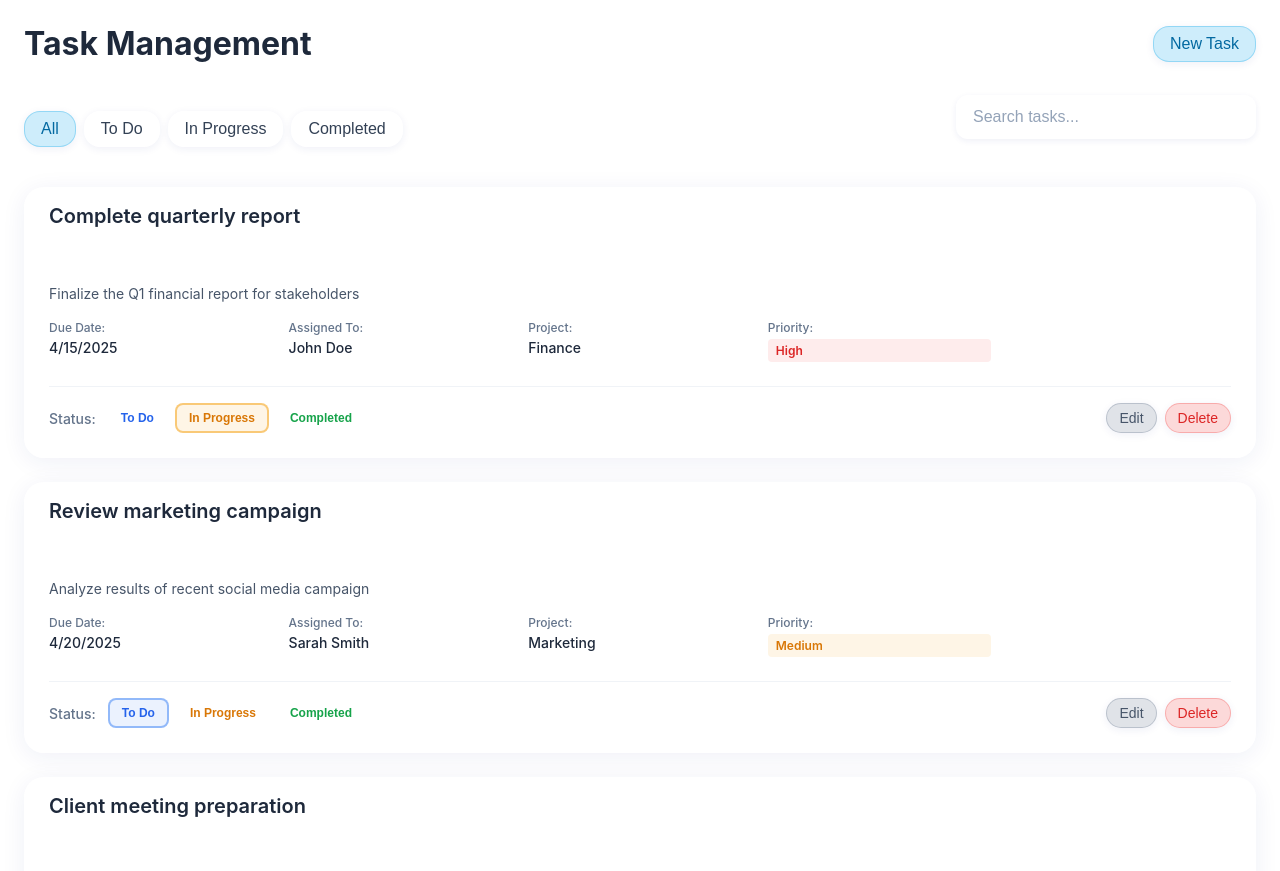
Test case: App Component Tests › Task Management Component › shows new task form when button clicked
Click the button "New Task" at (1204, 44), box [1153, 26, 1256, 62]
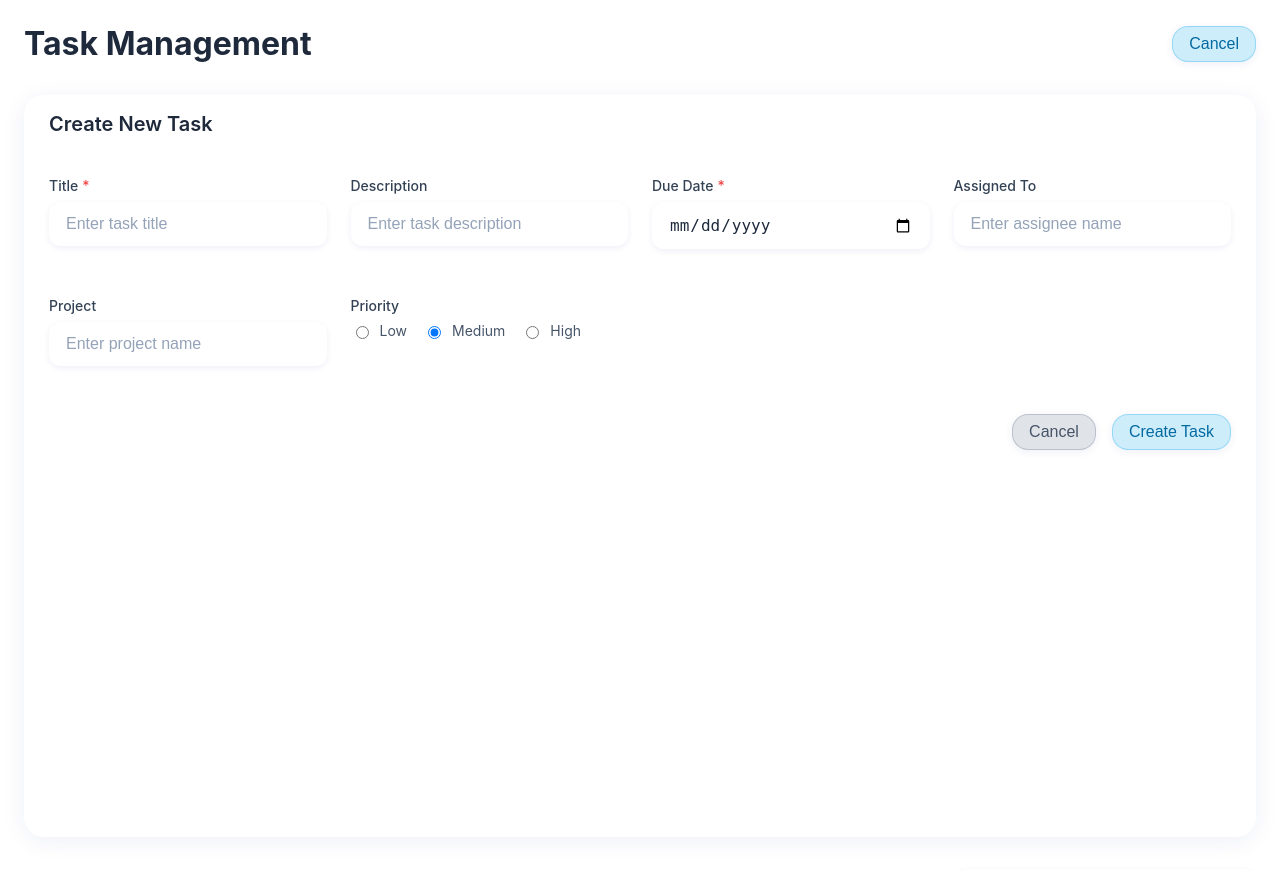
Now the heading "Create New Task" is shown, box [49, 112, 213, 136]
